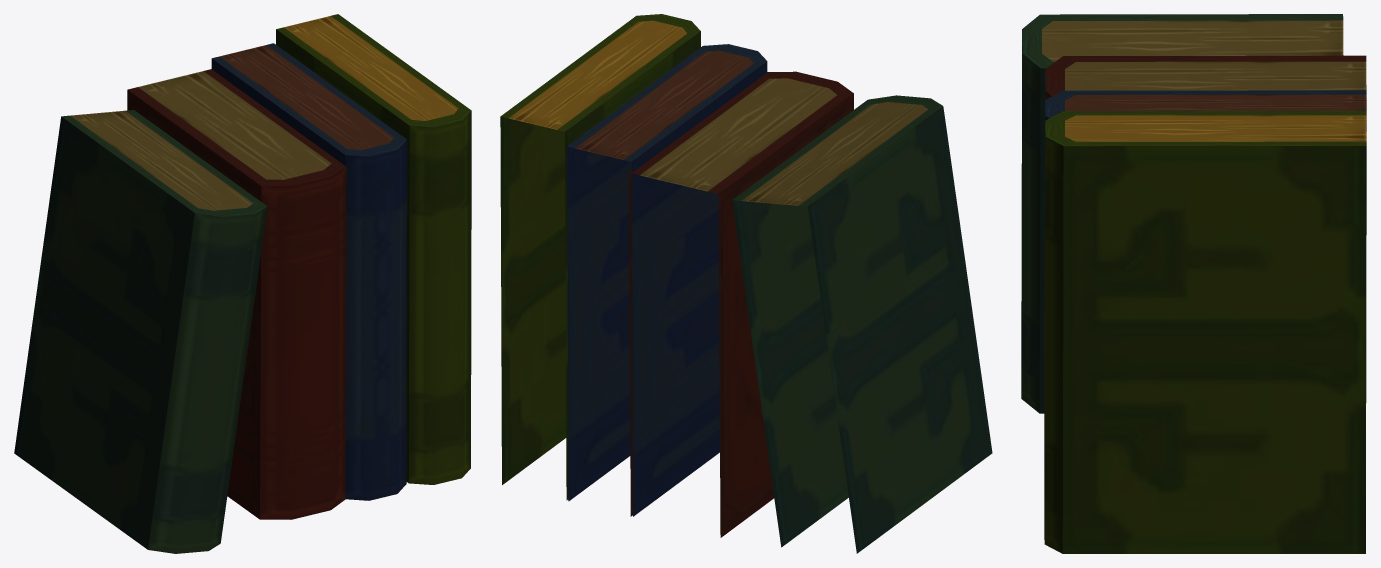
The model's file is bookgroup_small_1.glb.
3 views of the same model, side by side, from view 1: azimuth 30°, elevation 25°; view 2: azimuth 150°, elevation 25°; view 3: azimuth 270°, elevation 25° (orthographic). The views are drawn at different scales.
Parts seen in each view (by area): view 1: BookGroup_Small_1; view 2: BookGroup_Small_1; view 3: BookGroup_Small_1.
Boxes of the visible parts, <box> form: BookGroup_Small_1: <box>14,14,471,553</box>; BookGroup_Small_1: <box>500,14,992,553</box>; BookGroup_Small_1: <box>1021,14,1366,553</box>.
Size of the model in its own units: 0.2893 by 0.2983 by 0.2256.
1 material, 1 textured.
